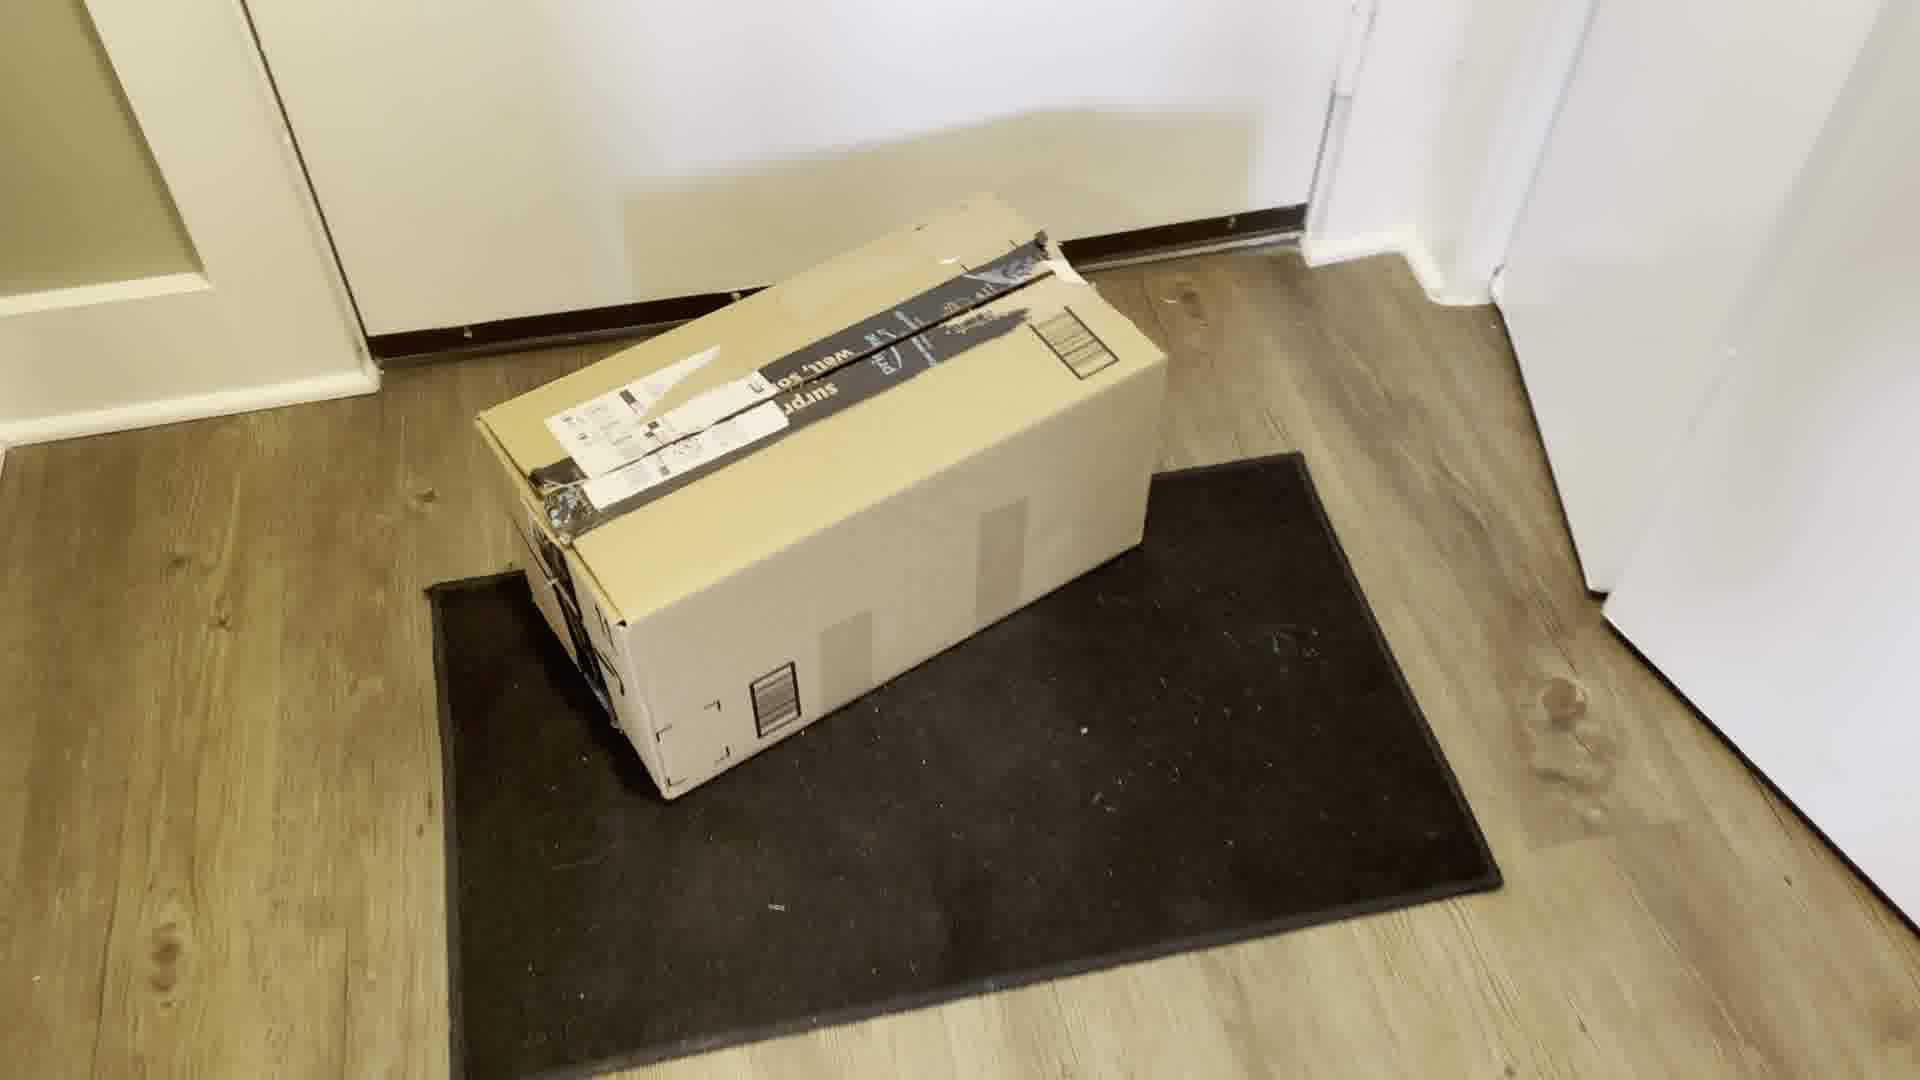box: (467, 214, 1185, 786)
